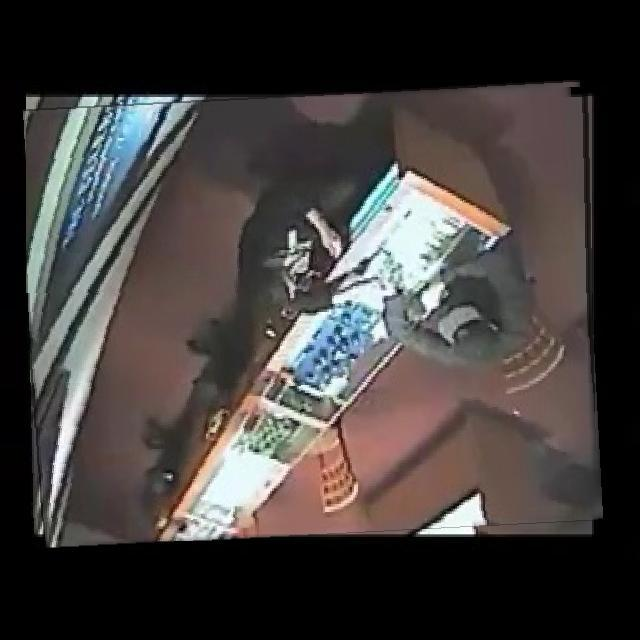Normal: (26, 87, 598, 541)
